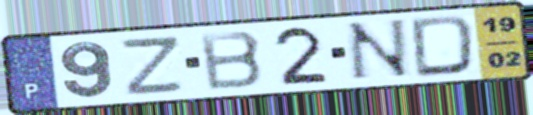2: (272, 25, 332, 88)
9: (56, 38, 117, 101)
B: (196, 29, 267, 93)
D: (408, 13, 479, 79)
N: (343, 16, 416, 84)
Z: (121, 33, 187, 98)
